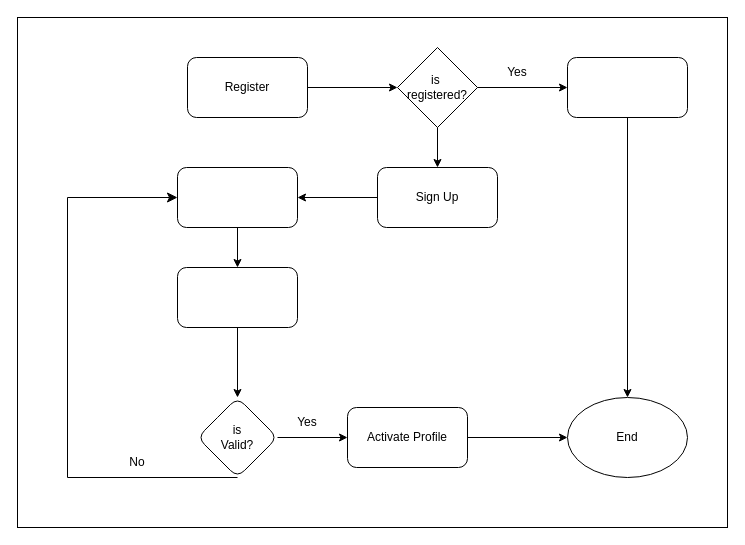
Image size: 745x545. Some labels were removed from this diagram. Each missing label, with the box of its shape:
Fill Data Form: (176, 166, 298, 228)
Login: (566, 56, 688, 118)
Validate data: (176, 266, 298, 328)
